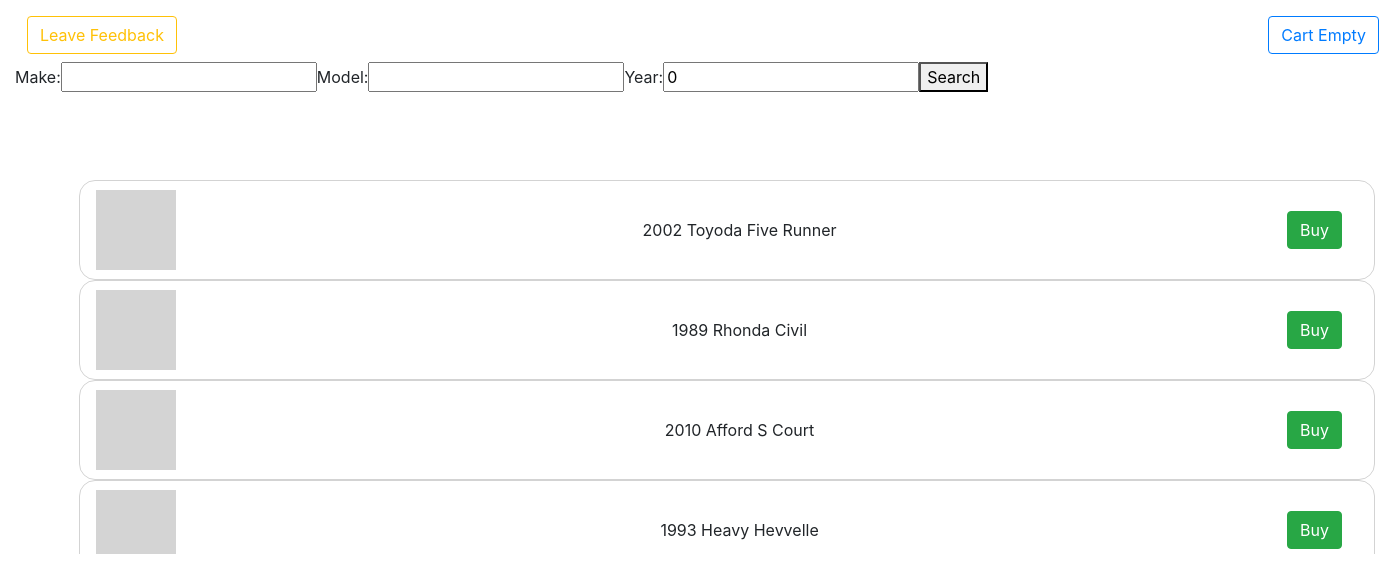
Test: App Content › should display feedback form when clicking on feedback button in nav bar
Click the button "Leave Feedback": click(102, 35) [27,16,177,54]
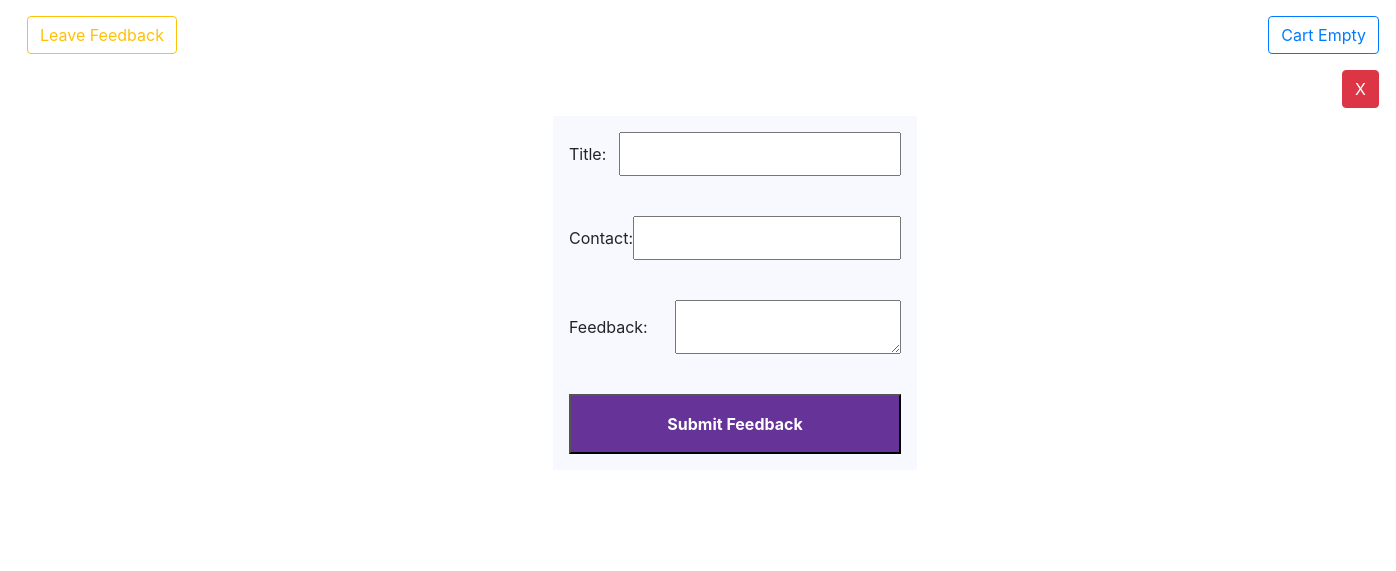
Result: no elements with test id "list-item" are shown
Result: the form with test id "feedback-form" is shown at [553,116,917,470]
